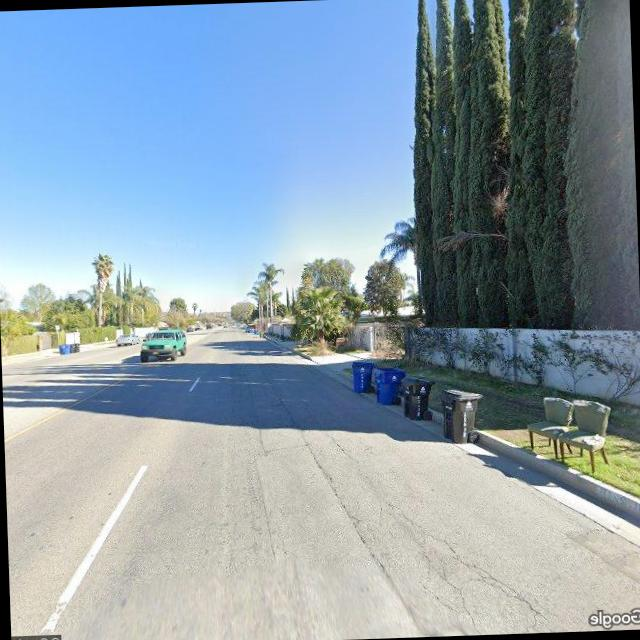crack: (339, 456, 555, 636)
